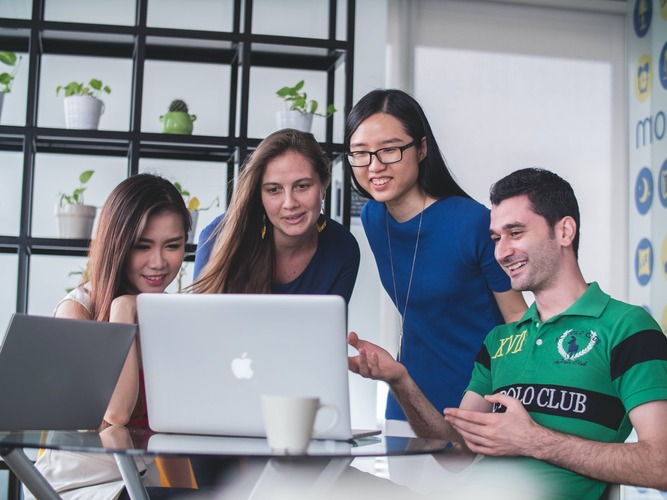without_mask: (490, 213, 552, 292), (347, 130, 410, 199), (123, 230, 184, 290), (261, 172, 318, 233)
